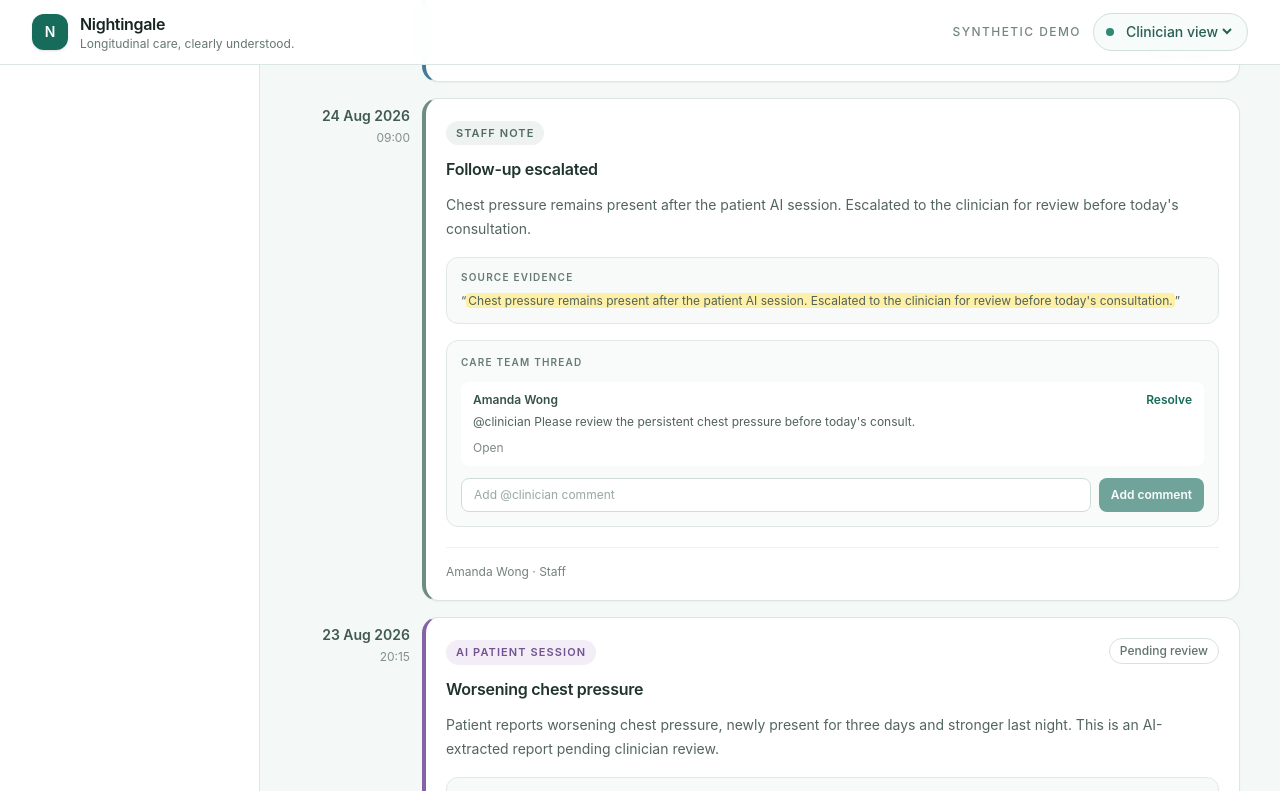
Test case: Nightingale application shell › resolves an open care-team comment
The image size is (1280, 791).
(page scrolled)
Expected: the element "Follow-up escalated" is shown, [422,98,1240,601]
What coordinates should you click on to do the following:
click the button with aria-label "Resolve comment"
I would click on:
 (1169, 400)
Its box is [1146,392,1192,408].
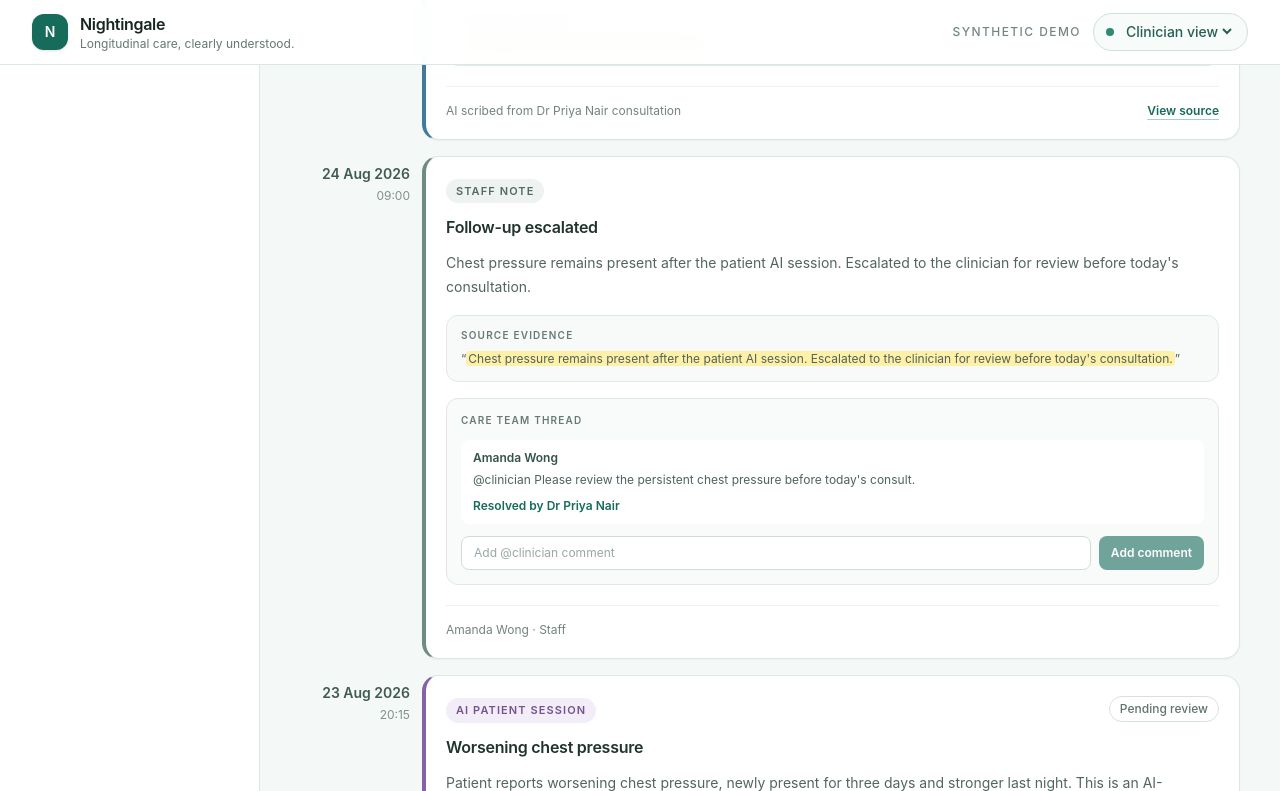
Result: the text "Resolved by Dr Priya Nair" is shown at [473,498,620,513]
